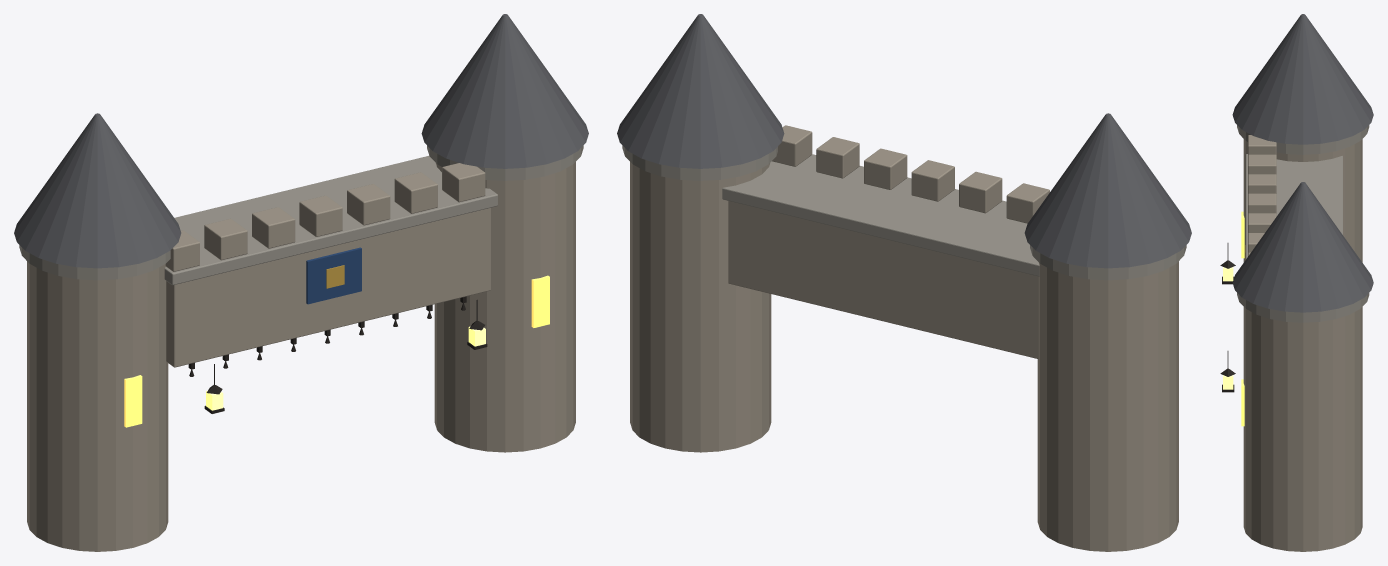
The model's file is puerta_sur.glb.
The picture shows the model from 3 angles, left to right: view 1: azimuth 30°, elevation 25°; view 2: azimuth 150°, elevation 25°; view 3: azimuth 270°, elevation 25°; orthographic projection. The views are drawn at different scales.
Visible parts, largest first — view 1: torreon, torreon.001, arco_muro, torreon_chapitel, torreon_chapitel.001, arco_cornisa, escudo, torreon_cornisa, almena.003, almena.001, almena.002, almena.004 (+6 smaller); view 2: torreon, torreon.001, arco_muro, arco_cornisa, torreon_chapitel, torreon_chapitel.001, torreon_cornisa, torreon_cornisa.001, almena.002, almena.003, almena.004, almena.005 (+2 smaller); view 3: torreon.001, torreon_chapitel, torreon_chapitel.001, arco_cornisa, torreon, torreon_cornisa.001, torreon_cornisa, almena.001, almena.003, almena.002, almena.004, almena.
Boxes of the visible parts, box(x1,y1,x2,y2) form: torreon: box(27, 261, 168, 551); torreon.001: box(434, 162, 575, 452); arco_muro: box(166, 208, 490, 367); torreon_chapitel: box(14, 113, 181, 268); torreon_chapitel.001: box(421, 14, 588, 168); arco_cornisa: box(164, 156, 497, 285); escudo: box(306, 247, 361, 304); torreon_cornisa: box(19, 245, 170, 280); almena.003: box(299, 195, 342, 236); almena.001: box(204, 218, 247, 260); almena.002: box(252, 207, 295, 248); almena.004: box(347, 184, 390, 225); torreon: box(1037, 261, 1178, 551); torreon.001: box(630, 162, 771, 452); arco_muro: box(728, 201, 1038, 358); arco_cornisa: box(722, 154, 1039, 276); torreon_chapitel: box(1024, 113, 1191, 268); torreon_chapitel.001: box(617, 14, 784, 168); torreon_cornisa: box(1030, 245, 1186, 280); torreon_cornisa.001: box(622, 145, 777, 180); almena.002: box(959, 171, 1002, 213); almena.003: box(911, 160, 954, 201); almena.004: box(864, 148, 907, 189); almena.005: box(816, 137, 859, 178); torreon.001: box(1243, 307, 1362, 551); torreon_chapitel: box(1232, 14, 1373, 144); torreon_chapitel.001: box(1232, 182, 1373, 312); arco_cornisa: box(1245, 154, 1342, 259); torreon: box(1243, 139, 1362, 262); torreon_cornisa.001: box(1237, 293, 1369, 322); torreon_cornisa: box(1237, 125, 1369, 154); almena.001: box(1248, 154, 1276, 174); almena.003: box(1248, 193, 1276, 213); almena.002: box(1248, 174, 1276, 193); almena.004: box(1248, 213, 1276, 232); almena: box(1248, 135, 1276, 154).
Bounding box in the file's own units: 12.2 × 8.6 × 3.48.
